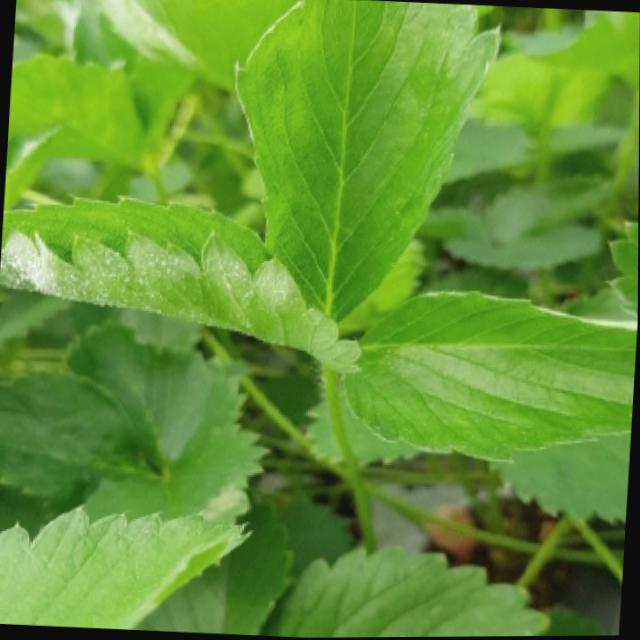Powdery Mildew Leaf: (0, 194, 364, 373)
